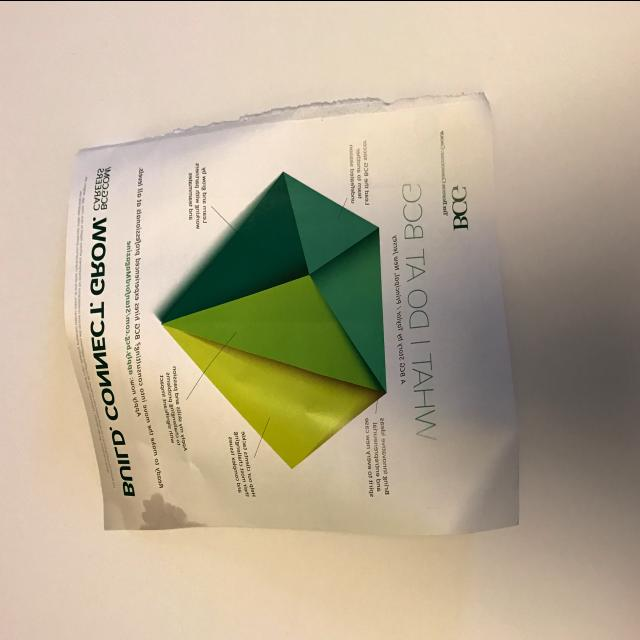Paper: (57, 90, 521, 540)
